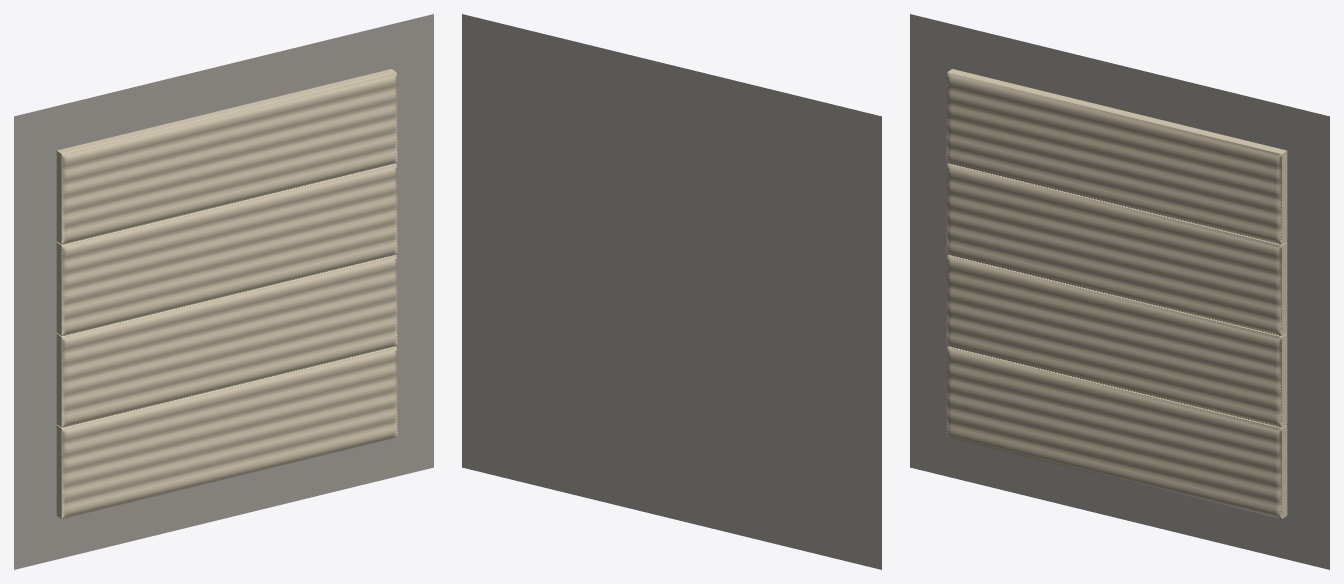
File: terilgan.glb
3 renders of one model, left to right at view 1: azimuth 30°, elevation 25°; view 2: azimuth 150°, elevation 25°; view 3: azimuth 330°, elevation 25°, orthographic.
Visible parts, largest first — view 1: Plane, t3_0, t1_0, t0_0, t2_0; view 2: Plane; view 3: Plane, t3_0, t1_0, t0_0, t2_0.
Boxes of the visible parts, x1,y1,x2,y2 form: Plane: (14,14,433,569); t3_0: (56,69,397,244); t1_0: (56,254,397,427); t0_0: (56,346,397,518); t2_0: (56,163,397,335); Plane: (462,14,881,569); Plane: (910,14,1329,569); t3_0: (946,69,1287,244); t1_0: (946,254,1287,427); t0_0: (946,346,1287,518); t2_0: (946,163,1287,335).
Size of the model in its own units: 1.5 by 1.55 by 0.0416.
